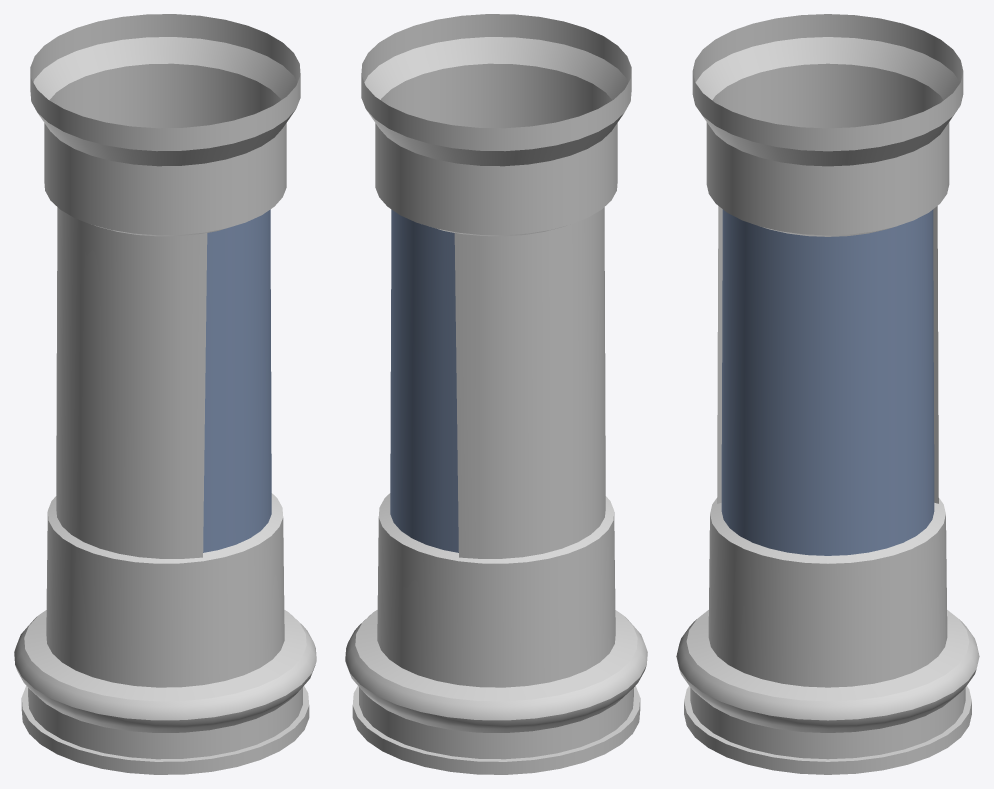
The model's file is Cryo_Tube.fbx.
3 views of the same model, side by side, from view 1: azimuth 30°, elevation 25°; view 2: azimuth 150°, elevation 25°; view 3: azimuth 270°, elevation 25° (orthographic).
Parts seen in each view (by area): view 1: Cryo.001; view 2: Cryo.001; view 3: Cryo.001.
Part boxes in pixels (bbox=[...]): Cryo.001: bbox=[14, 14, 316, 774]; Cryo.001: bbox=[345, 14, 647, 774]; Cryo.001: bbox=[676, 14, 979, 774].
Size of the model in its own units: 172 by 402 by 172.
